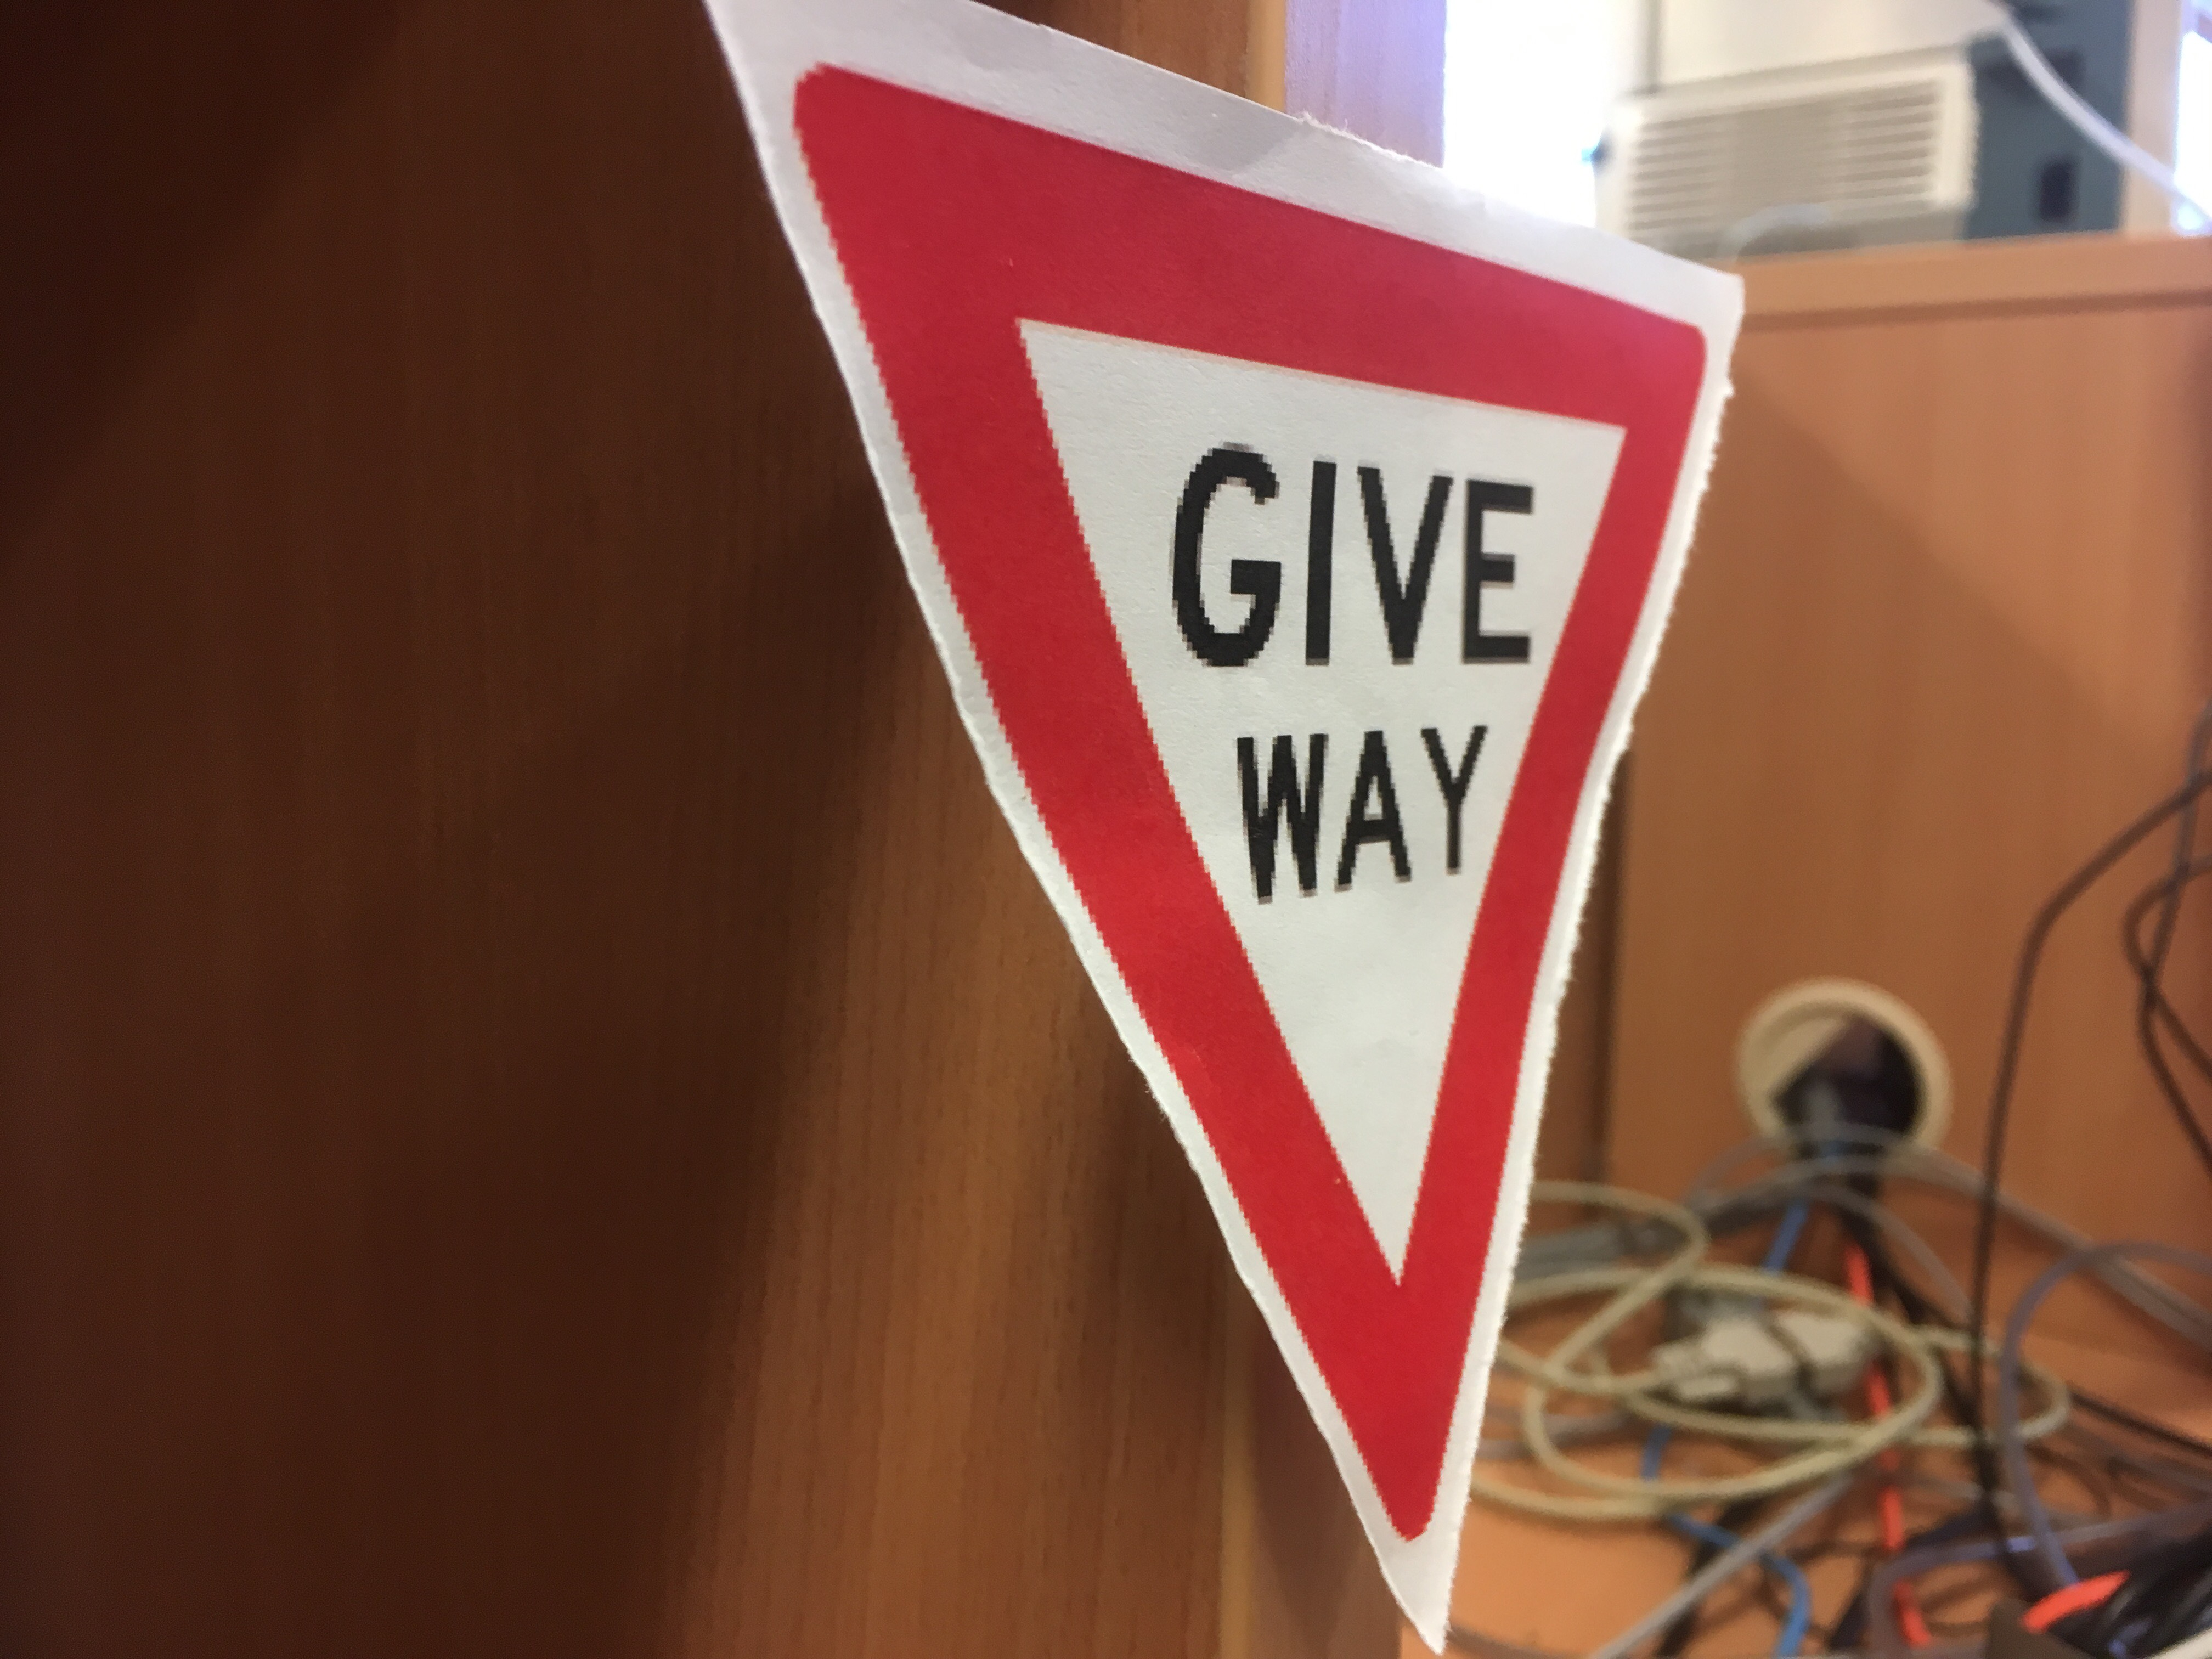giveway: (791, 56, 1724, 1568), (761, 19, 1376, 1525), (963, 277, 1568, 1439), (1379, 160, 1642, 1534), (1066, 383, 1623, 985)
